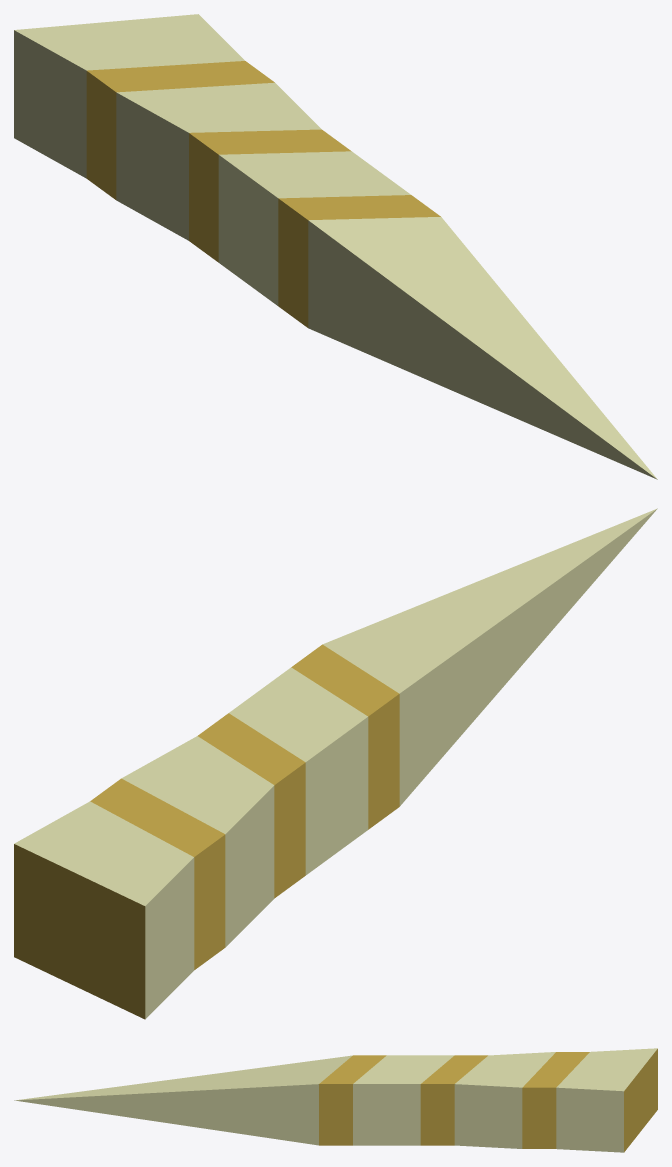
Rendered from inv_unicorn_horn_2.obj.
3 renders of one model, top to bottom at view 1: azimuth 30°, elevation 25°; view 2: azimuth 150°, elevation 25°; view 3: azimuth 270°, elevation 25°, orthographic. The views are drawn at different scales.
Bounding box in the file's own units: 0.0938 × 0.0625 × 0.5938.
